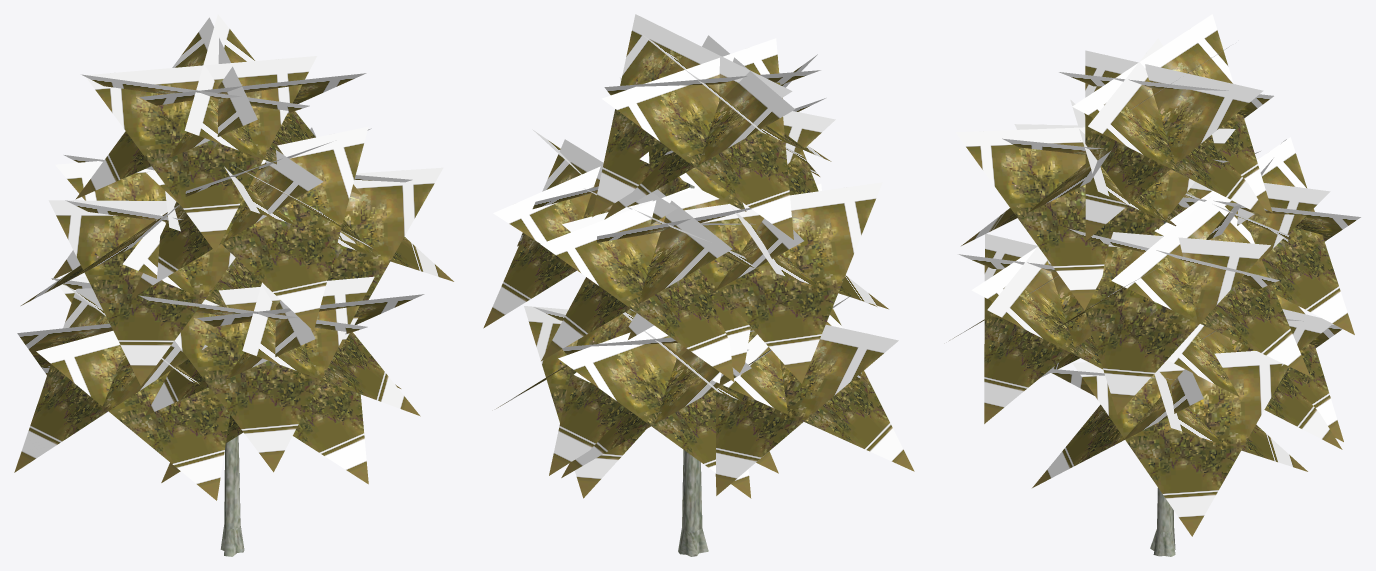
File: euro_beech.dae
3 renders of one model, left to right at view 1: azimuth 30°, elevation 25°; view 2: azimuth 150°, elevation 25°; view 3: azimuth 270°, elevation 25°, orthographic. The views are drawn at different scales.
Parts seen in each view (by area): view 1: tree_oak_b1; view 2: tree_oak_b1; view 3: tree_oak_b1.
Part boxes in pixels (x1,y1,x2,y2): tree_oak_b1: (14, 14, 453, 556); tree_oak_b1: (483, 14, 914, 556); tree_oak_b1: (949, 14, 1360, 556).
Bounding box in the file's own units: 228 × 255 × 202.
2 materials, 2 textured.
